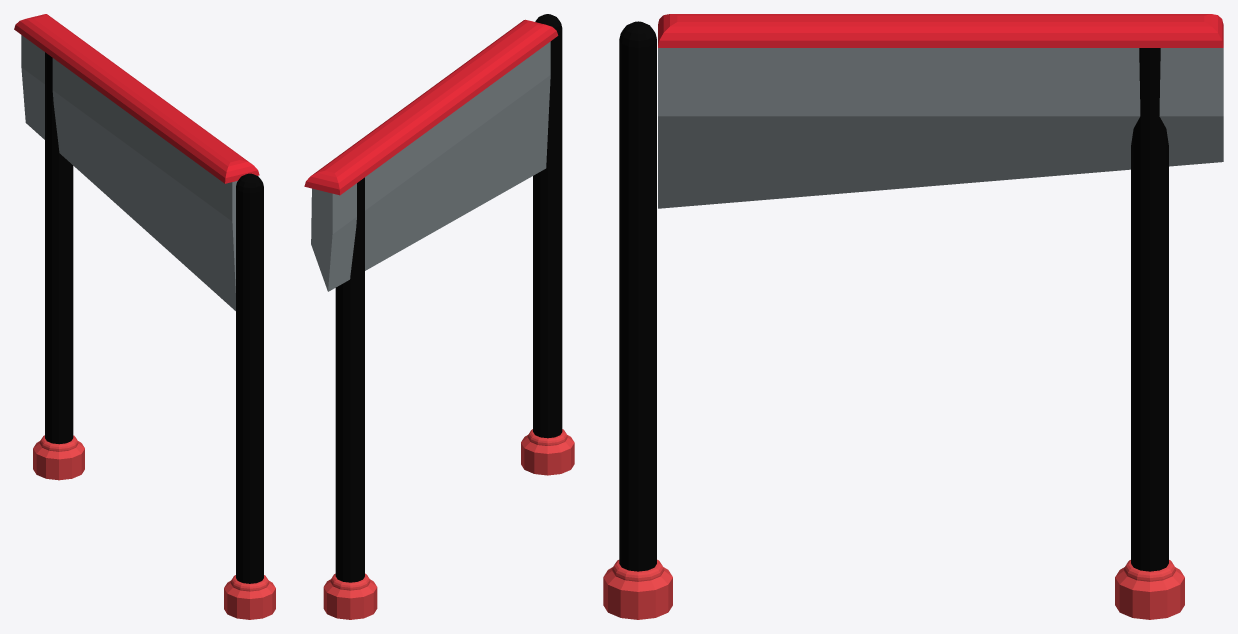
Rendered from guillotine.fbx.
3 views of the same model, side by side, from view 1: azimuth 30°, elevation 25°; view 2: azimuth 150°, elevation 25°; view 3: azimuth 270°, elevation 25° (orthographic). The views are drawn at different scales.
Visible parts, largest first — view 1: Guillotine, Left, Right; view 2: Guillotine, Left, Right; view 3: Guillotine, Left, Right.
Boxes of the visible parts, <box> form: Guillotine: <box>14,14,259,310</box>; Left: <box>224,173,275,619</box>; Right: <box>33,52,84,480</box>; Guillotine: <box>304,19,558,291</box>; Left: <box>521,14,574,475</box>; Right: <box>323,177,377,619</box>; Guillotine: <box>658,14,1223,208</box>; Left: <box>603,21,672,619</box>; Right: <box>1115,48,1184,619</box>.
Bounding box in the file's own units: 0.2956 × 2.74 × 2.63.
